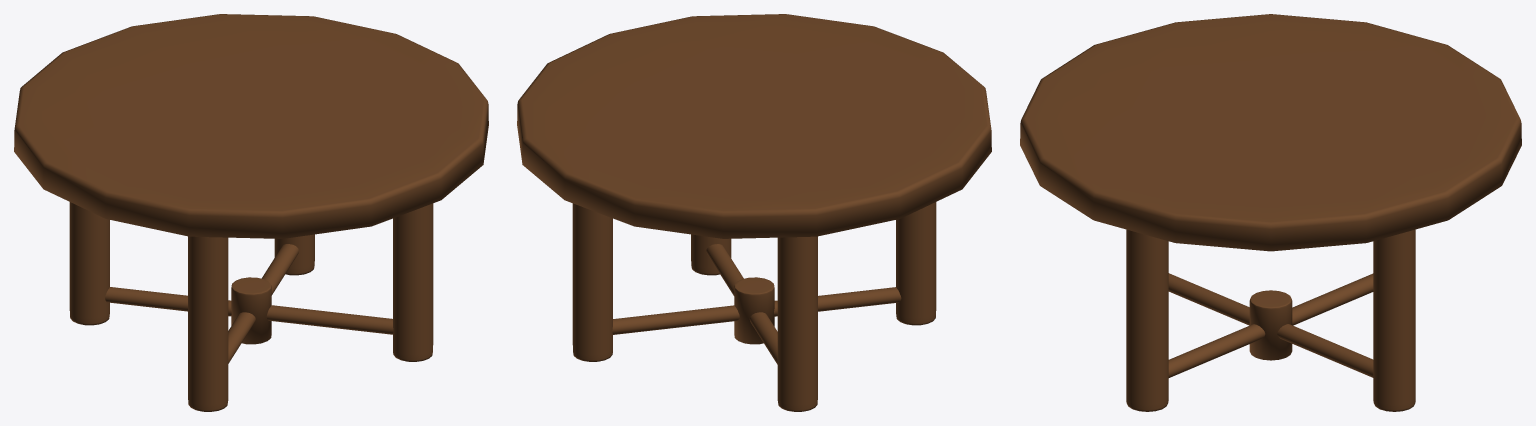
File: coffeetable.fbx
3 renders of one model, left to right at view 1: azimuth 30°, elevation 25°; view 2: azimuth 150°, elevation 25°; view 3: azimuth 270°, elevation 25°, orthographic. The views are drawn at different scales.
Visible parts, largest first — view 1: CoffeeTable; view 2: CoffeeTable; view 3: CoffeeTable.
Part boxes in pixels (box(x1,y1,x2,y2)): CoffeeTable: box(14, 14, 488, 411); CoffeeTable: box(517, 14, 991, 411); CoffeeTable: box(1020, 14, 1521, 411).
Size of the model in its own units: 0.9857 by 0.5067 by 0.9857.
